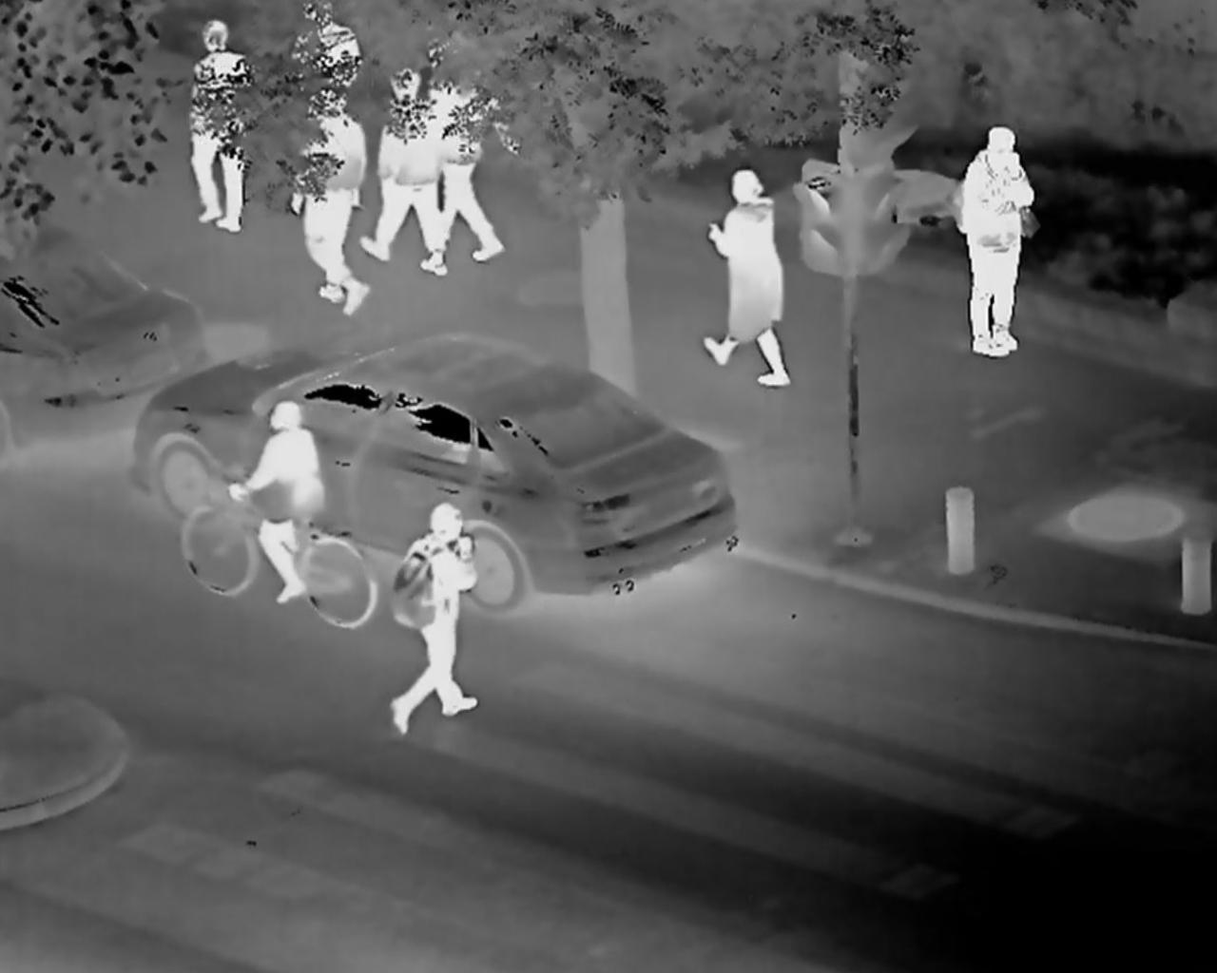person: (686, 161, 795, 411), (391, 487, 491, 740), (286, 86, 384, 338), (217, 396, 326, 622), (426, 28, 511, 288), (950, 120, 1037, 361), (184, 11, 264, 237), (374, 57, 447, 277), (287, 3, 367, 150)
